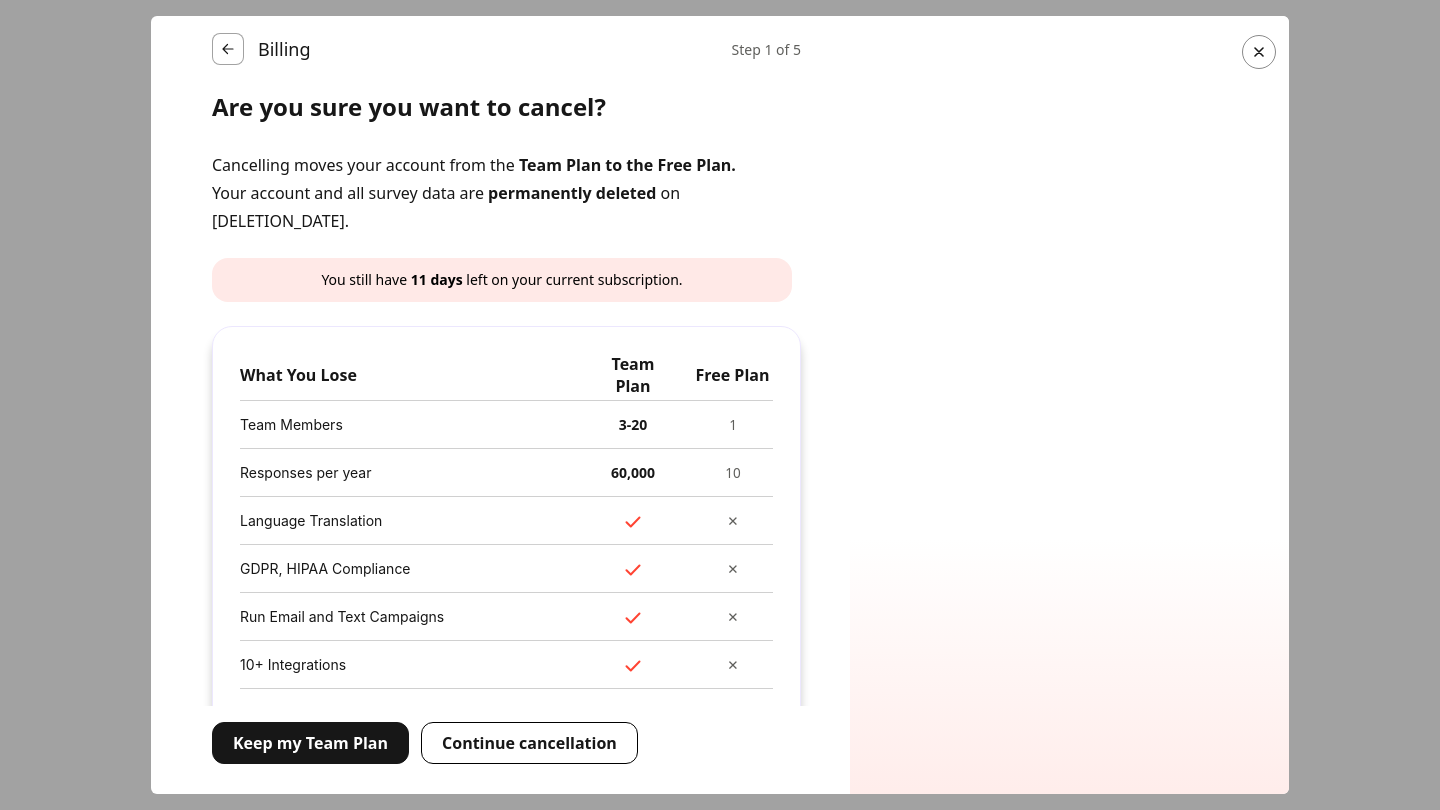
Test: CancellationModal › Flow B: shows alternatives instead of the first offer, and pause uses a real resume date
Later steps or results of the test are not shown.
Click the button "Continue cancellation" at [529, 743], box [421,722,638,764]
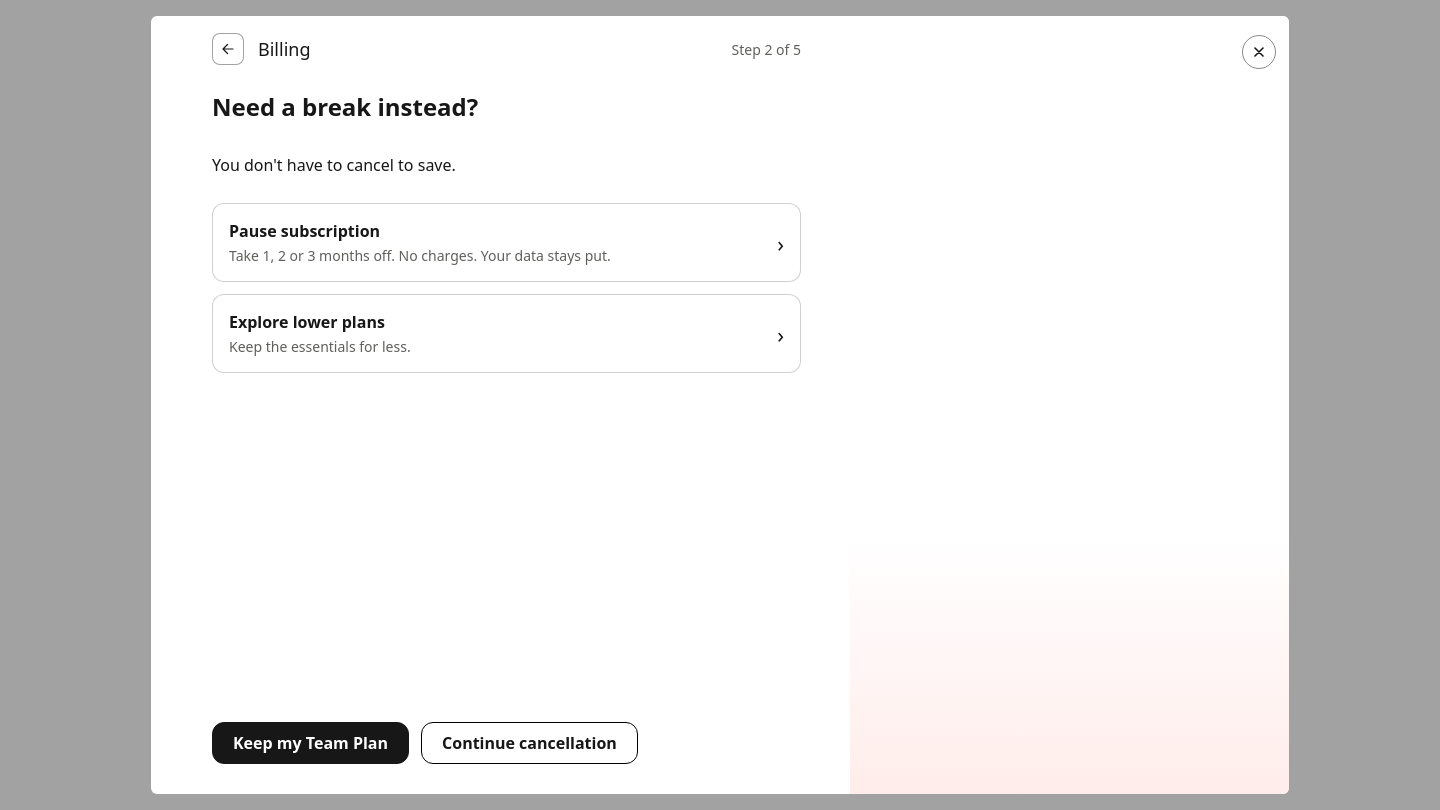
Click the button "Pause subscription" at [305, 231], box [212,203,801,282]
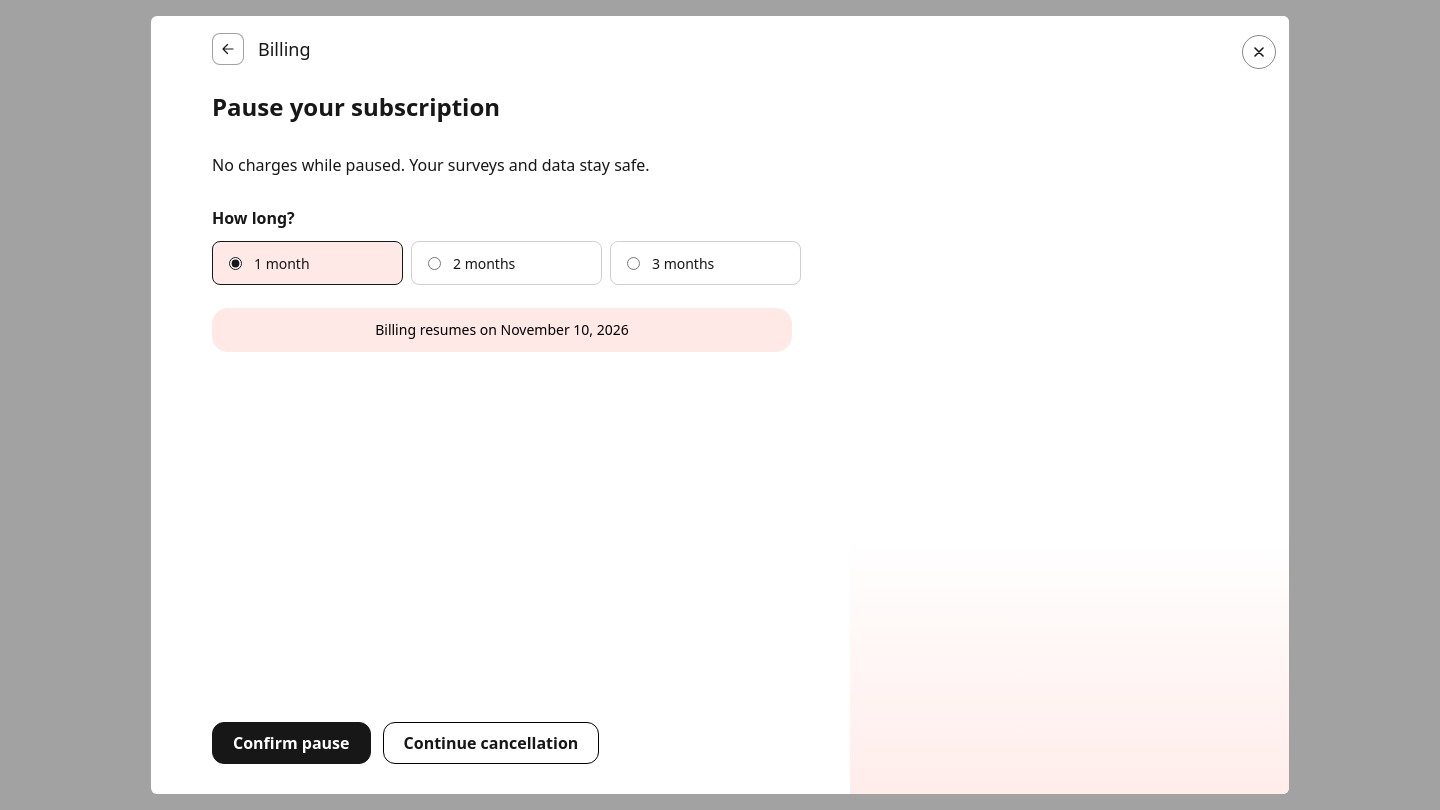
Click the radio button labelled "3 months" at [634, 263], box [627,256,640,270]
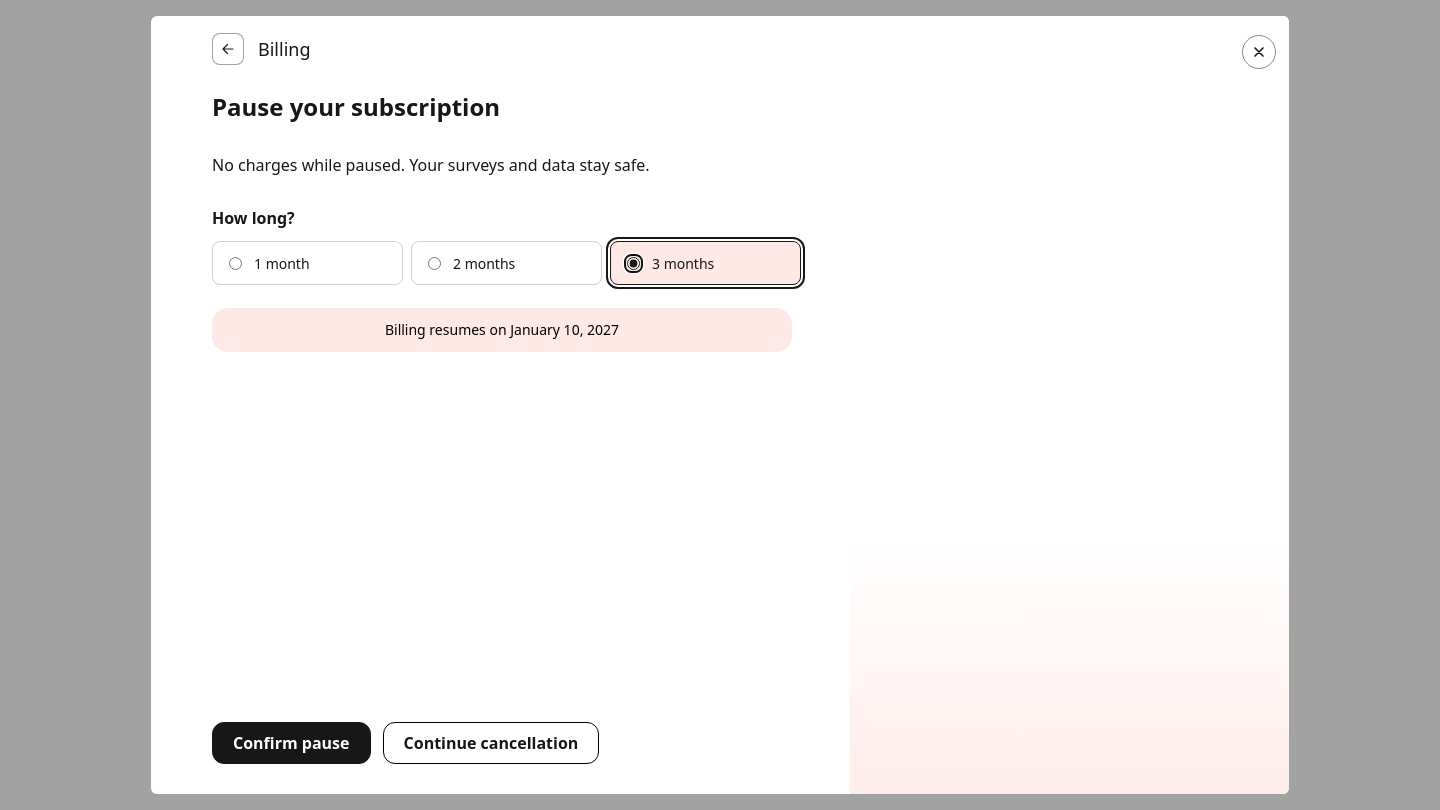
Expected: the text "Billing resumes on January 10, 2027" is shown, [212,308,792,352]
Click the button "Confirm pause" at [291, 743], box [212,722,370,764]
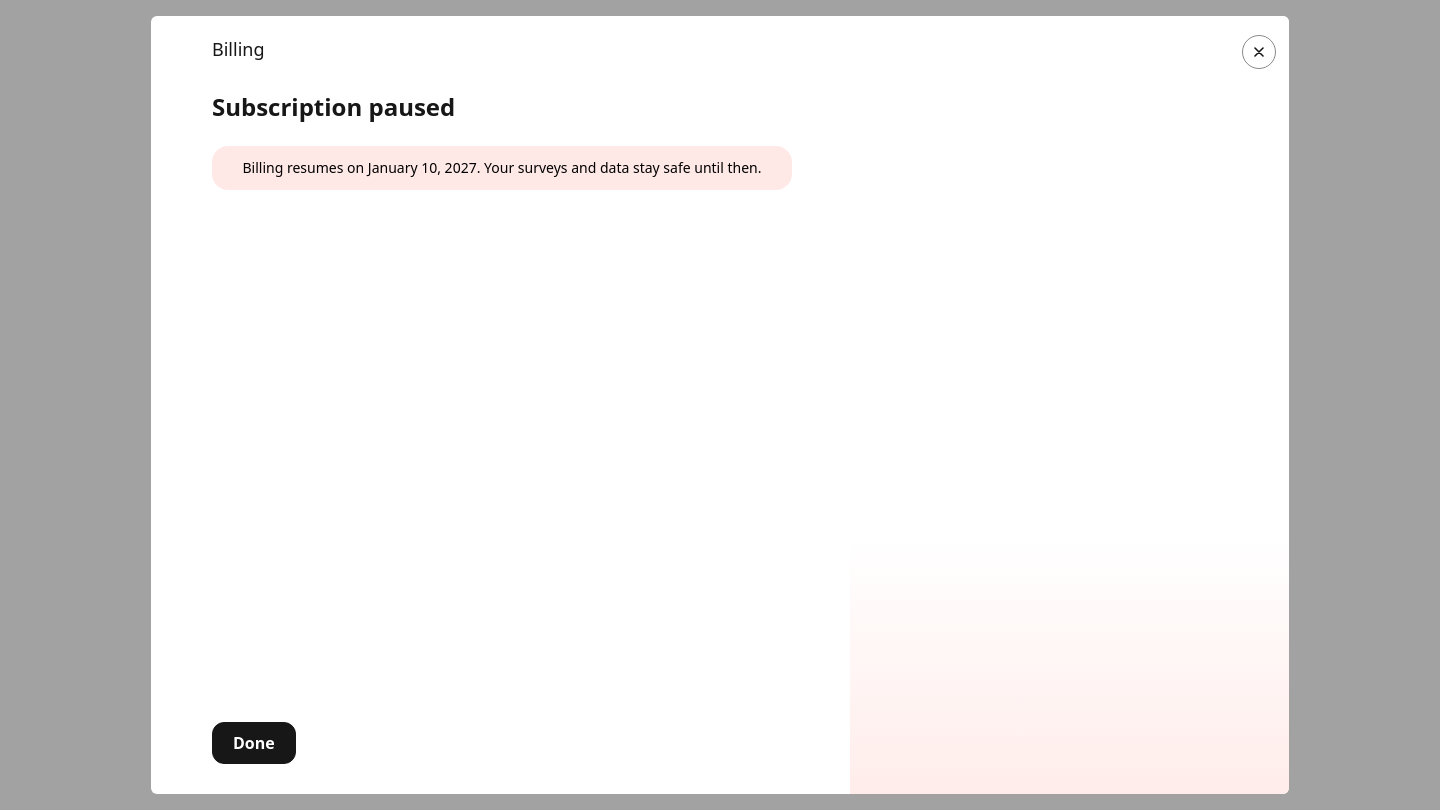
Expected: the heading "Subscription paused" is shown, [212,90,455,123]
